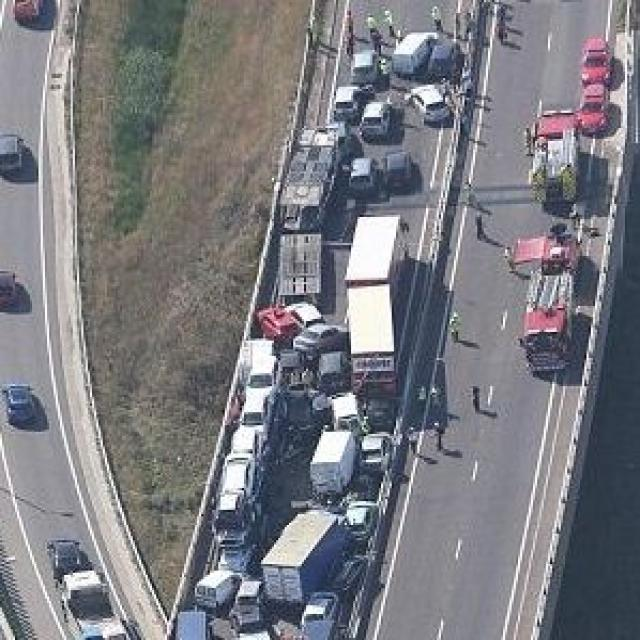traffic_incident: (272, 332, 402, 505)
